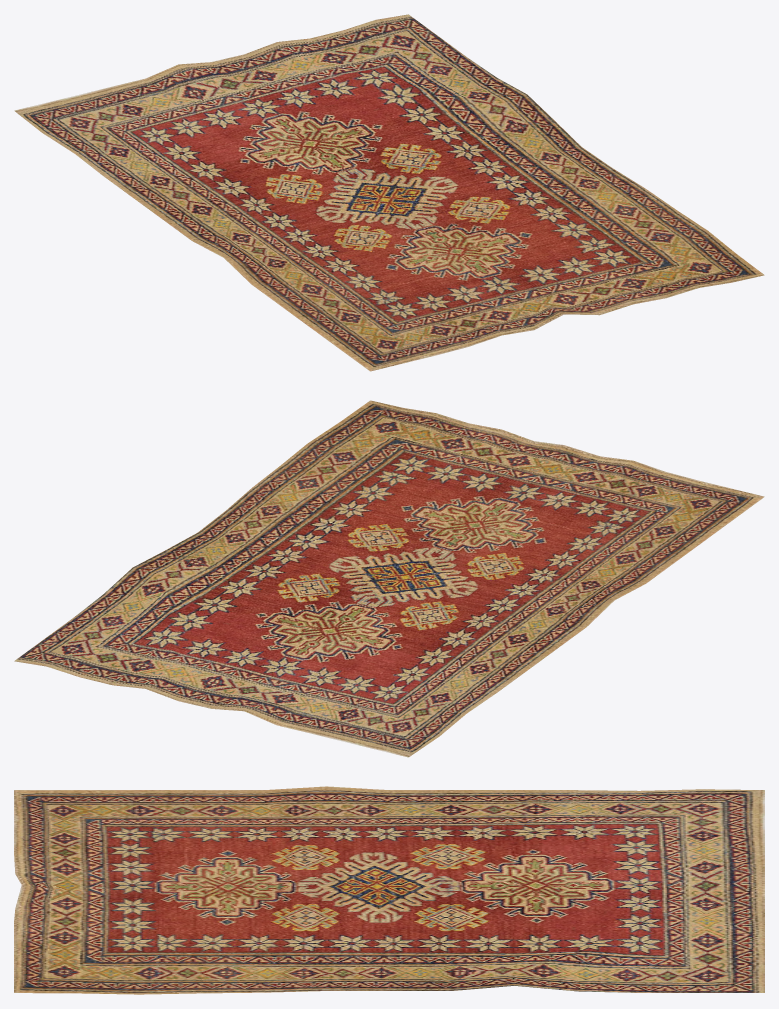
The model's file is AIR0110014.fbx.
3 views of the same model, one above another, from view 1: azimuth 30°, elevation 25°; view 2: azimuth 150°, elevation 25°; view 3: azimuth 270°, elevation 25° (orthographic). The views are drawn at different scales.
Parts seen in each view (by area): view 1: smAIR0110014; view 2: smAIR0110014; view 3: smAIR0110014.
Boxes of the visible parts, x1,y1,x2,y2 form: smAIR0110014: [14, 14, 764, 371]; smAIR0110014: [14, 400, 764, 757]; smAIR0110014: [14, 786, 764, 994].
Bounding box in the file's own units: 254 × 4.52 × 392.
1 material, 1 textured.
